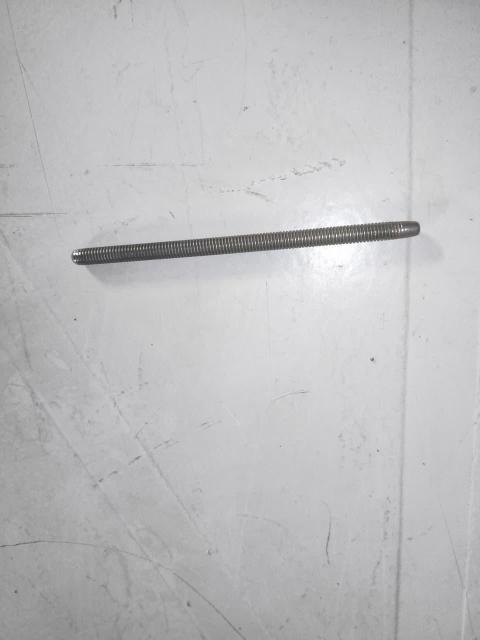Metal: (73, 218, 435, 273)
